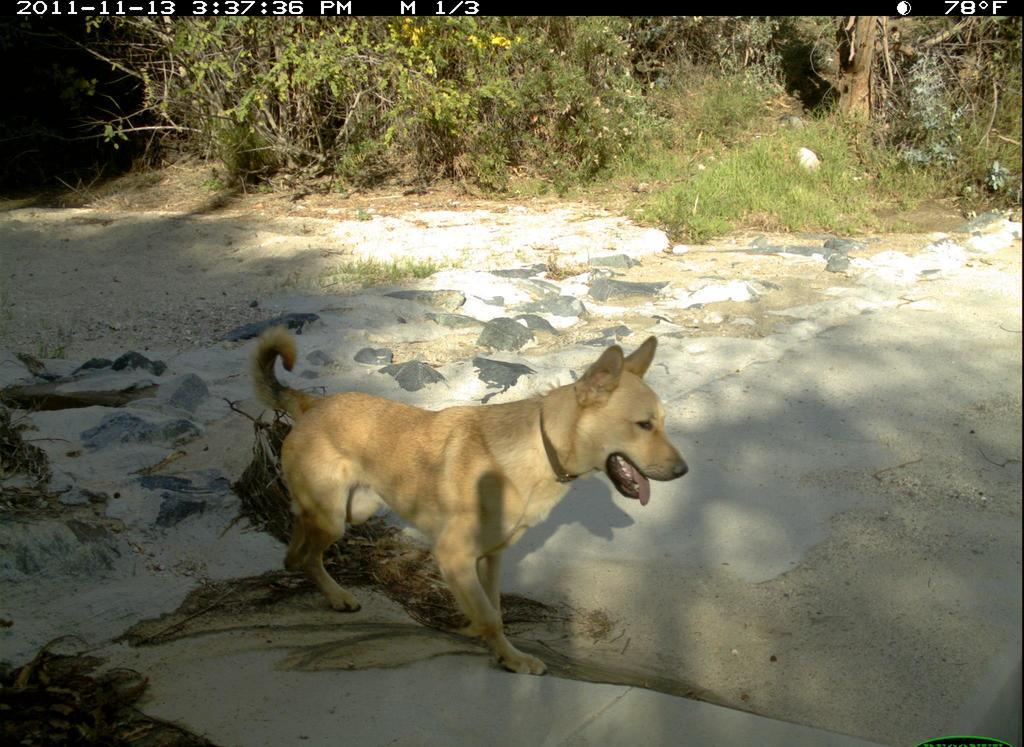dog: (244, 315, 696, 680)
